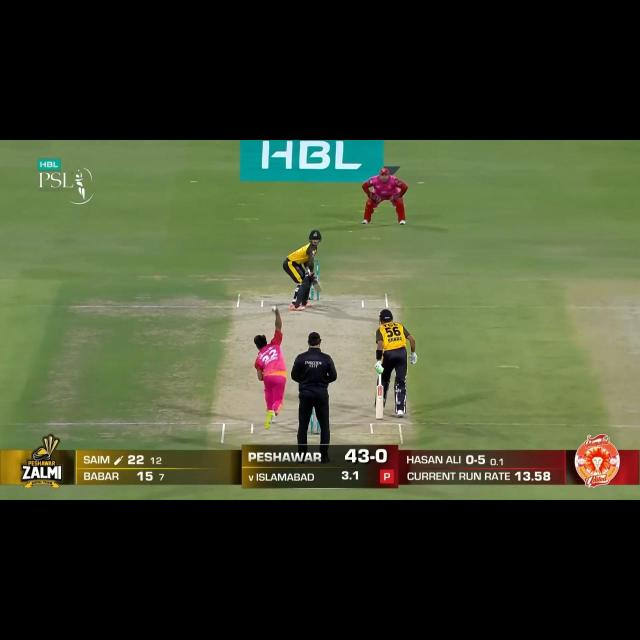bat: (375, 386, 385, 422), (314, 277, 322, 293)
toe: (376, 412, 383, 420), (316, 287, 323, 292)
